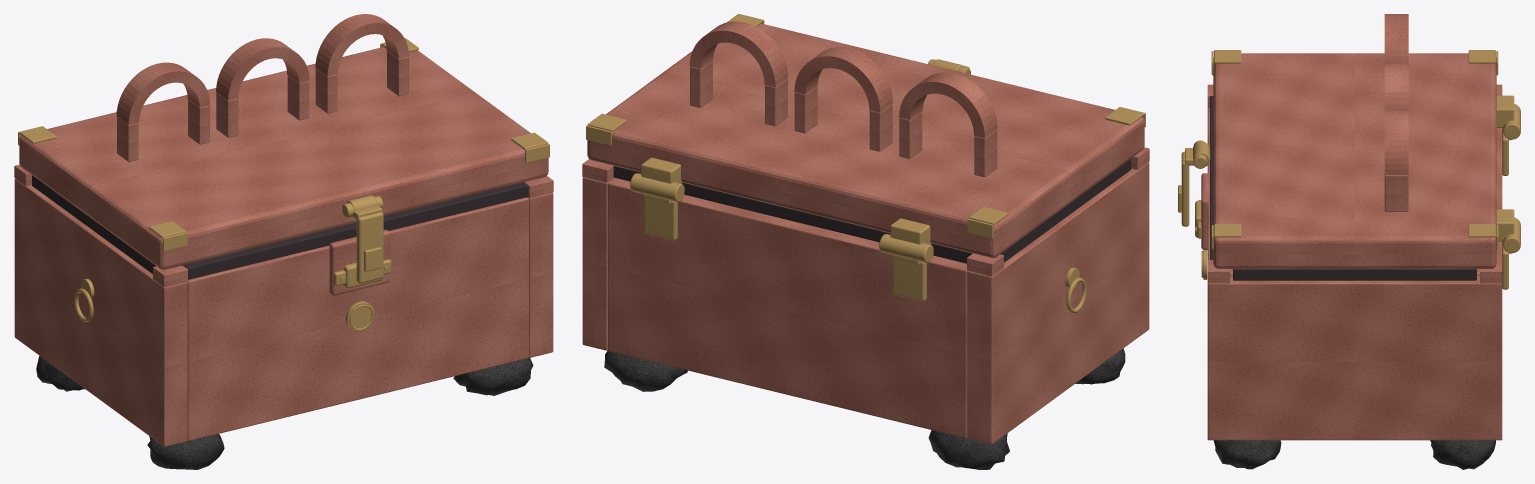
File: armenia.glb
3 renders of one model, left to right at view 1: azimuth 30°, elevation 25°; view 2: azimuth 150°, elevation 25°; view 3: azimuth 270°, elevation 25°, orthographic. The views are drawn at different scales.
Parts seen in each view (by area): view 1: Lid / polished slab, Tuff / front, Tuff / side, Mineral seam / long, Tuff / side.001, Arcade / arch, Arcade / arch.002, Arcade / arch.001, Granite foot, Granite foot.002, Tuff / clasp seat, Latch / lifting hasp (+10 smaller); view 2: Lid / polished slab, Tuff / rear, Tuff / side, Tuff / side.001, Mineral seam / long.001, Arcade / arch.001, Arcade / arch, Arcade / arch.002, Granite foot.001, Granite foot.003, Mineral seam / side, Hinge / fixed mount (+14 smaller); view 3: Lid / polished slab, Tuff / side.001, Mineral seam / side.001, Arcade / arch.002, Granite foot.002, Granite foot.003, Arcade / arch.001, Arcade / arch, Arcade / pier.005, Tuff / rear, Mineral seam / long, Latch / lifting hasp (+11 smaller).
Boxes of the visible parts, x1,y1,x2,y2 form: Lid / polished slab: (19, 47, 548, 269); Tuff / front: (187, 197, 528, 440); Tuff / side: (14, 178, 187, 446); Mineral seam / long: (182, 182, 528, 279); Tuff / side.001: (527, 193, 553, 357); Arcade / arch: (116, 62, 210, 124); Arcade / arch.002: (315, 14, 408, 76); Arcade / arch.001: (216, 38, 309, 100); Granite foot: (147, 434, 224, 469); Granite foot.002: (453, 357, 533, 395); Tuff / clasp seat: (329, 229, 390, 295); Latch / lifting hasp: (356, 212, 383, 283); Lid / polished slab: (587, 23, 1144, 257); Tuff / rear: (608, 178, 967, 438); Tuff / side: (967, 162, 1149, 444); Tuff / side.001: (582, 177, 614, 350); Mineral seam / long.001: (613, 166, 972, 263); Arcade / arch.001: (794, 47, 892, 112); Arcade / arch: (899, 72, 997, 138); Arcade / arch.002: (689, 21, 788, 87); Granite foot.001: (928, 430, 1009, 469); Granite foot.003: (604, 350, 687, 391); Mineral seam / side: (1000, 158, 1131, 262); Hinge / fixed mount: (893, 255, 926, 301); Lid / polished slab: (1213, 53, 1496, 268); Tuff / side.001: (1207, 276, 1502, 440); Mineral seam / side.001: (1233, 269, 1476, 280); Arcade / arch.002: (1384, 109, 1408, 175); Granite foot.002: (1213, 440, 1281, 469); Granite foot.003: (1430, 440, 1495, 469); Arcade / arch.001: (1384, 61, 1408, 109); Arcade / arch: (1384, 14, 1408, 61); Arcade / pier.005: (1384, 175, 1408, 211); Tuff / rear: (1496, 128, 1502, 259); Mineral seam / long: (1210, 96, 1213, 259); Latch / lifting hasp: (1181, 151, 1189, 226).
Bounding box in the file's own units: 3.79 × 3.02 × 2.88.
4 materials, 2 textured.
